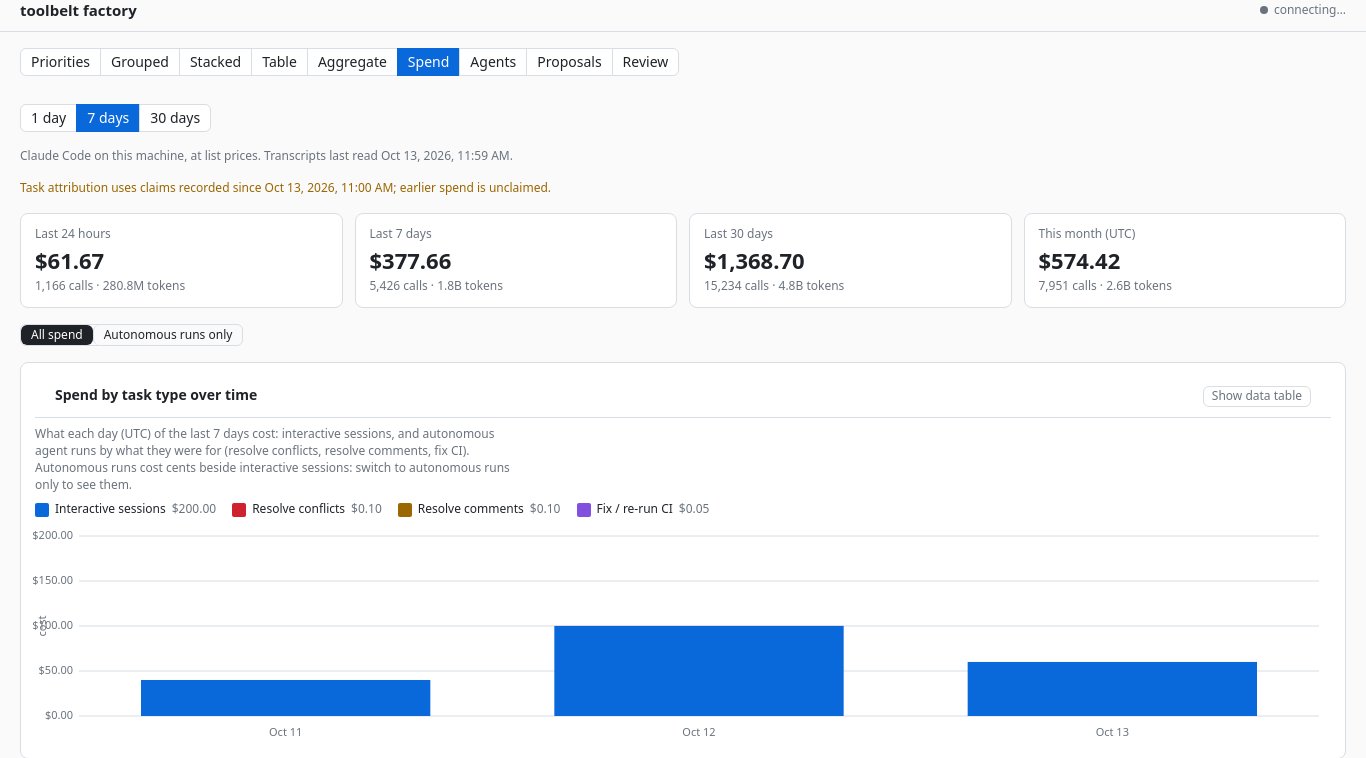
it: the spend view › the chart's data table lists every day with its total
Click the button "Show data table" at [1257, 397], box [1203, 386, 1311, 407]
(page scrolled)
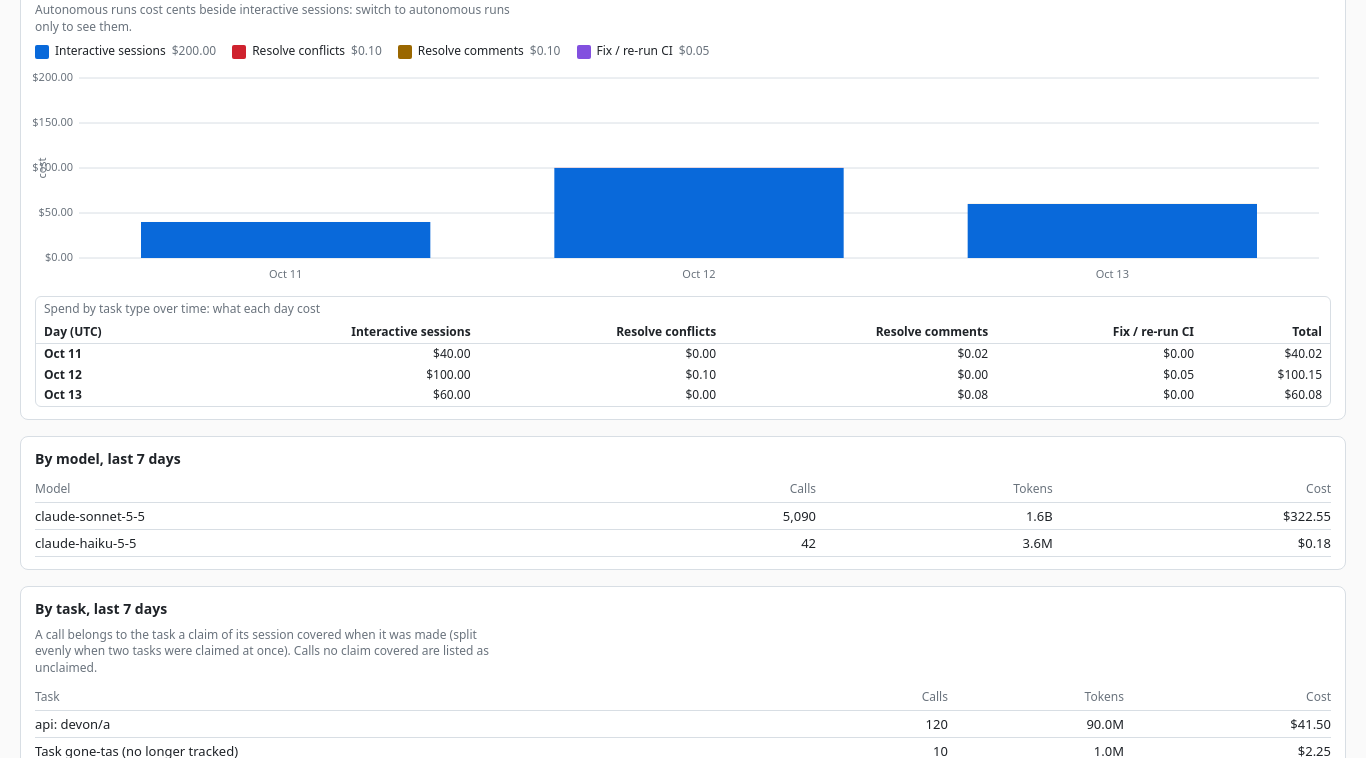
Expected: the text "$100.15" is shown, [1202, 364, 1330, 385]
